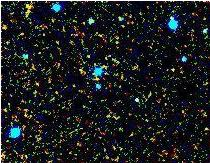star: (18, 0, 48, 19)
